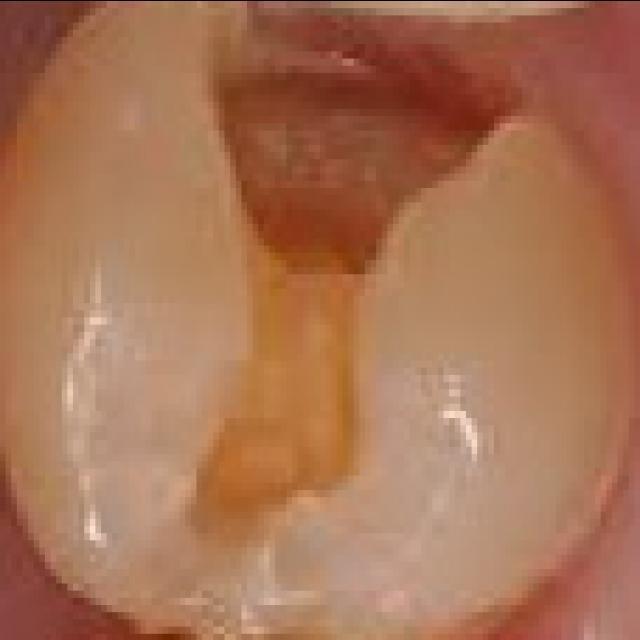caries: (183, 19, 535, 280)
